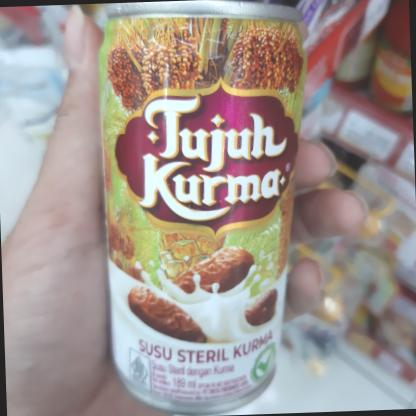alumunium_can: (92, 0, 324, 414)
